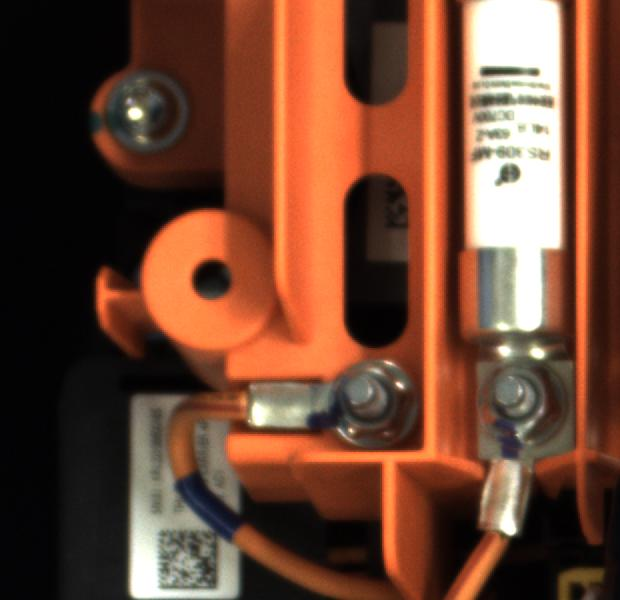screw_m: (93, 62, 200, 158)
screw_s: (323, 343, 426, 443), (475, 349, 570, 450)
